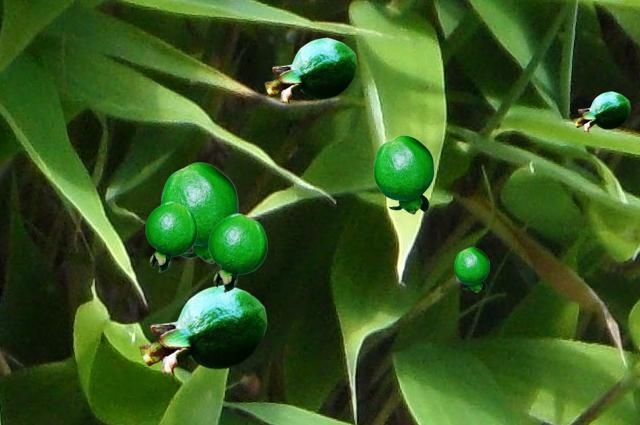guava: (139, 284, 266, 375), (160, 162, 237, 262), (264, 37, 356, 103), (373, 135, 433, 213), (208, 213, 266, 291), (145, 201, 196, 271), (573, 91, 629, 131), (454, 247, 488, 291)
